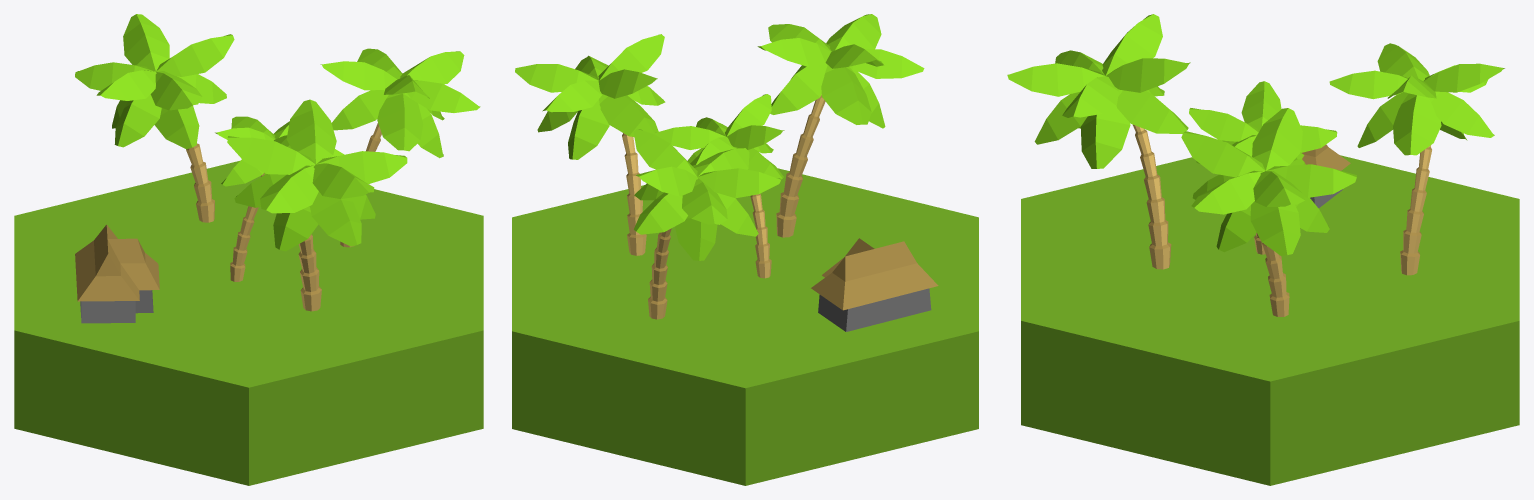
Rendered from Casas_Palmeras_1.fbx.
3 renders of one model, left to right at view 1: azimuth 30°, elevation 25°; view 2: azimuth 150°, elevation 25°; view 3: azimuth 270°, elevation 25°, orthographic. The views are drawn at different scales.
Parts seen in each view (by area): view 1: Casas_Palmeras_1; view 2: Casas_Palmeras_1; view 3: Casas_Palmeras_1.
Part boxes in pixels (left/top/right/bottom): Casas_Palmeras_1: left=14, top=14, right=483, bottom=485; Casas_Palmeras_1: left=512, top=14, right=978, bottom=485; Casas_Palmeras_1: left=1007, top=14, right=1519, bottom=485.
Bounding box in the file's own units: 200 × 120 × 178.
